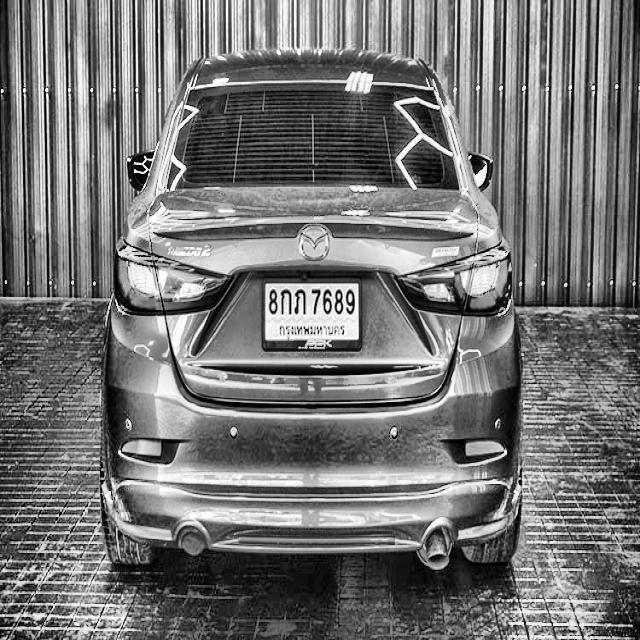license-plate: (259, 263, 365, 362)
